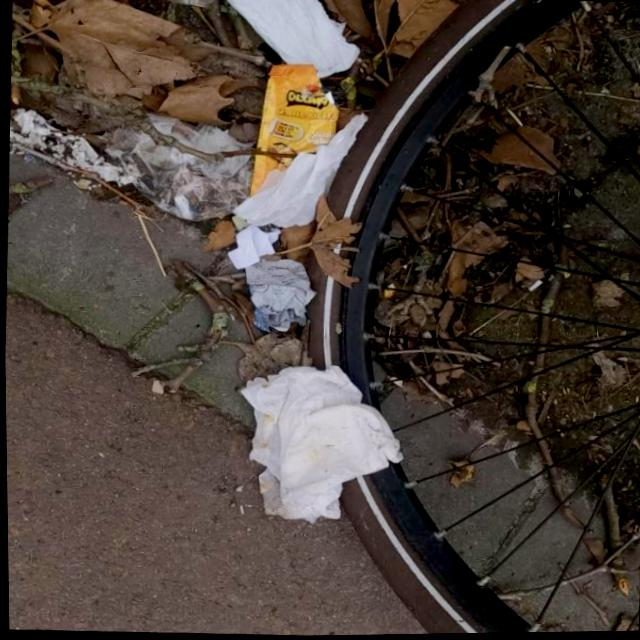Paper: (237, 255, 319, 338)
Plastic: (244, 62, 343, 202)
